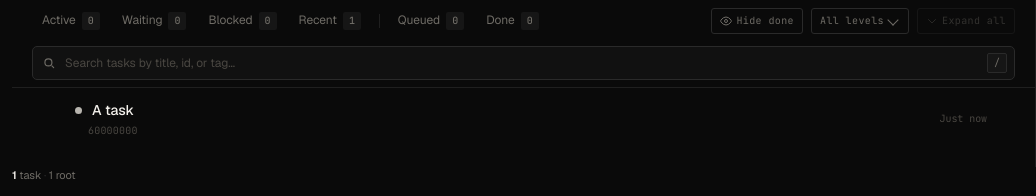
Test case: TasksPage › renders a hide-done toggle that flips its label and .on class
This screenshot has width=1036, height=196.
Click the button with test id "tasks-hide-done".
click(757, 21)  # box [711, 8, 803, 34]
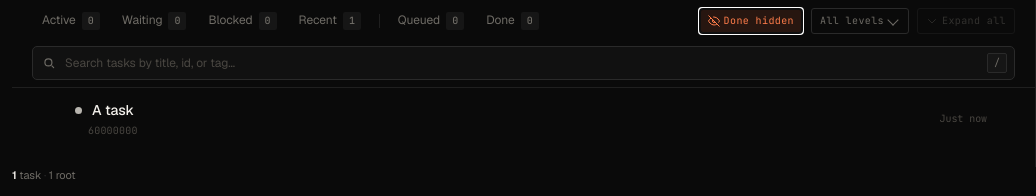
Expected: the button with test id "tasks-hide-done" reads "Done hidden", [699, 8, 803, 34]
